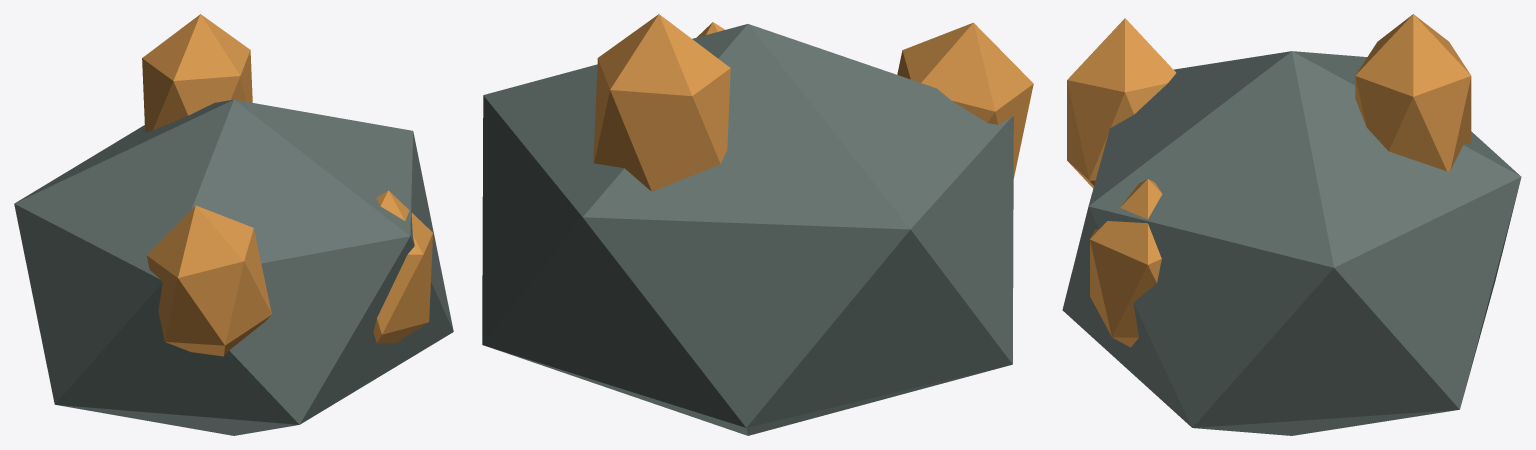
File: ore.glb
3 views of the same model, side by side, from view 1: azimuth 30°, elevation 25°; view 2: azimuth 150°, elevation 25°; view 3: azimuth 270°, elevation 25° (orthographic). The views are drawn at different scales.
Parts seen in each view (by area): view 1: Icon_Icosphere.001, Icon_Icosphere.002, Icon_Icosphere, Icon_Icosphere.003; view 2: Icon_Icosphere.001, Icon_Icosphere, Icon_Icosphere.002; view 3: Icon_Icosphere.001, Icon_Icosphere, Icon_Icosphere.002, Icon_Icosphere.003.
Part boxes in pixels (x1,y1,x2,y2): Icon_Icosphere.001: (14, 99, 453, 435); Icon_Icosphere.002: (146, 205, 271, 356); Icon_Icosphere: (142, 14, 252, 132); Icon_Icosphere.003: (373, 190, 432, 343); Icon_Icosphere.001: (482, 24, 1013, 435); Icon_Icosphere: (593, 14, 730, 191); Icon_Icosphere.002: (897, 22, 1033, 178); Icon_Icosphere.001: (1062, 51, 1521, 435); Icon_Icosphere: (1355, 14, 1471, 171); Icon_Icosphere.002: (1067, 18, 1175, 188); Icon_Icosphere.003: (1090, 179, 1162, 347).
Size of the model in its own units: 0.6887 by 0.6299 by 0.6054.
